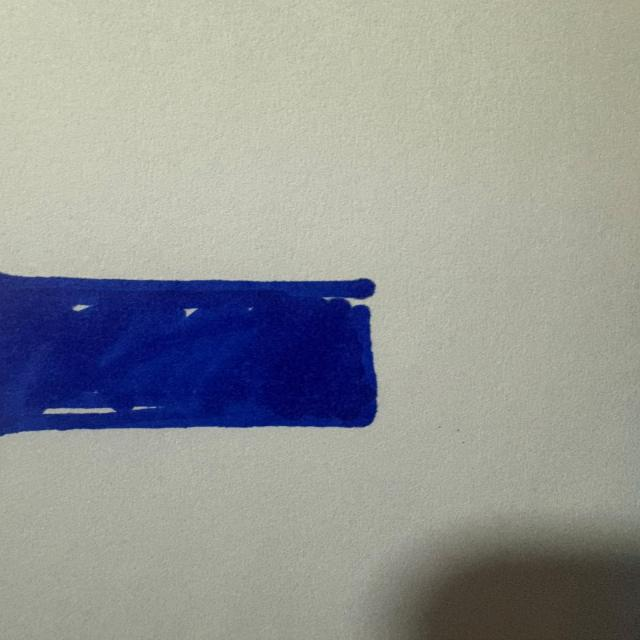Rectangle: (0, 273, 378, 435)
